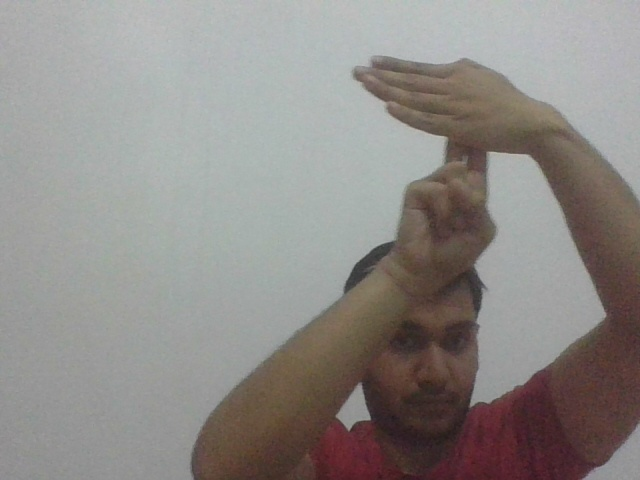N: (351, 52, 522, 174)
